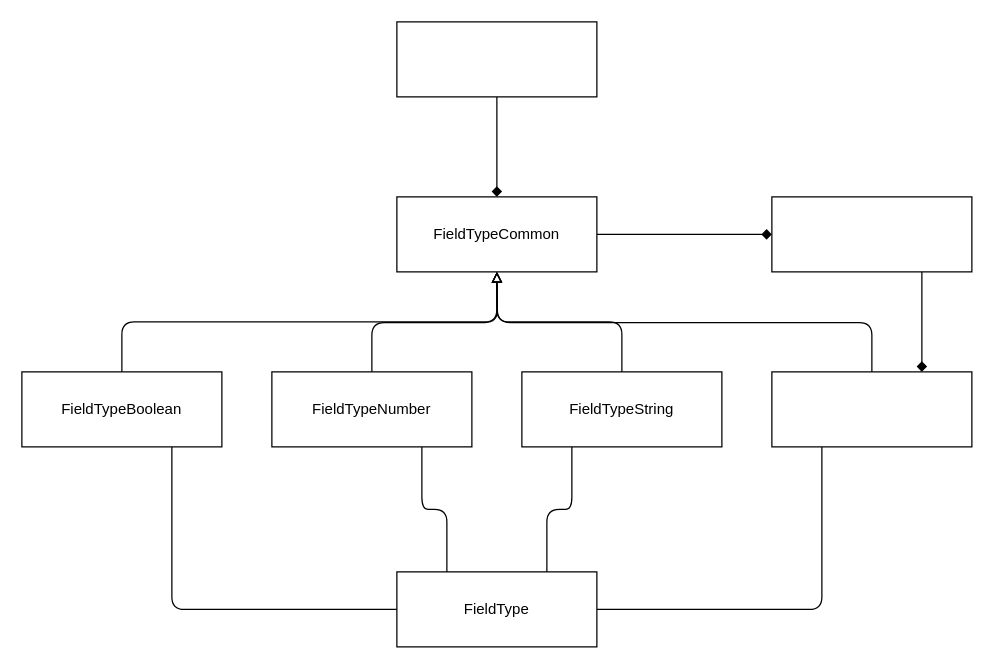
The diagram is 994 pixels wide and 669 high, and some of its shapes have lost their labels. The shapes that lost their labels are listed below. From the top down, each one's centre as x and y in pixels, then its label:
At (x=496, y=59): "DiscriminatorFieldType".
At (x=871, y=234): "FieldsDefinition".
At (x=871, y=409): "FieldTypeComplex".
